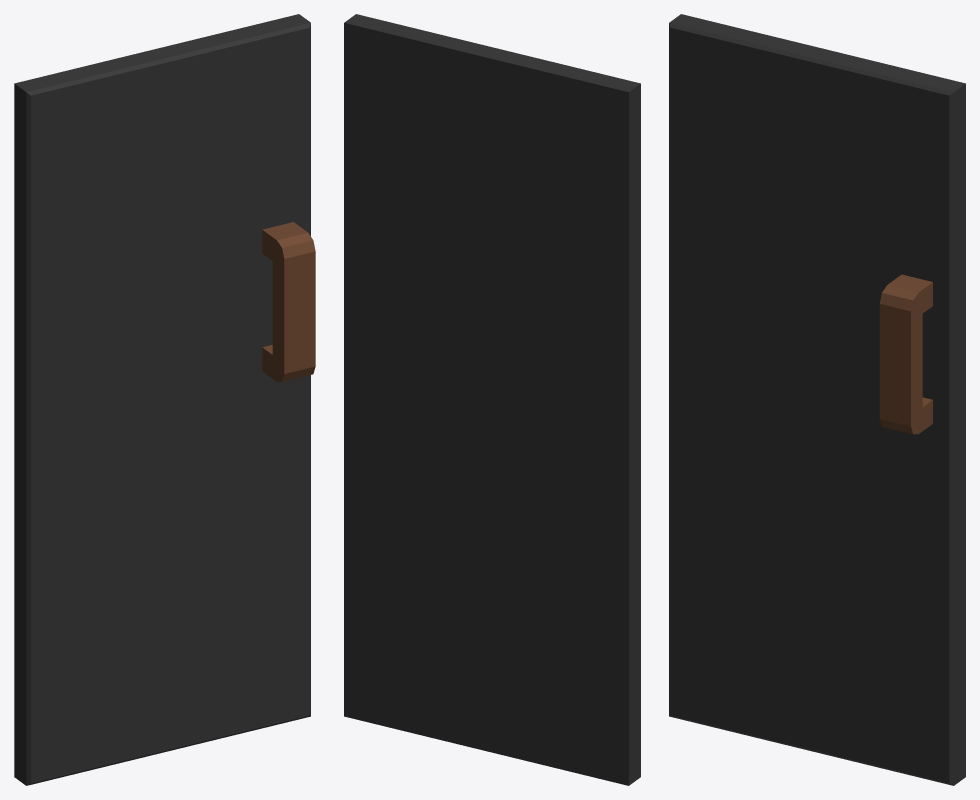
Rendered from shelf_door_3.glb.
3 views of the same model, side by side, from view 1: azimuth 30°, elevation 25°; view 2: azimuth 150°, elevation 25°; view 3: azimuth 330°, elevation 25° (orthographic).
Visible parts, largest first — view 1: Expositor Door 4; view 2: Expositor Door 4; view 3: Expositor Door 4.
Boxes of the visible parts, x1,y1,x2,y2 form: Expositor Door 4: (14, 14, 315, 785); Expositor Door 4: (344, 14, 640, 785); Expositor Door 4: (669, 14, 965, 785).
Size of the model in its own units: 0.3303 by 0.7689 by 0.0716.
Materials: 1 (1 with a texture image).
